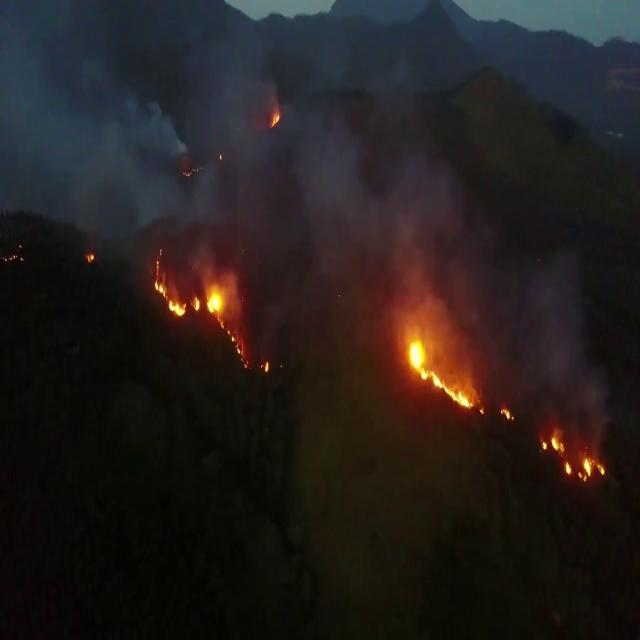Fire: (152, 246, 250, 372), (408, 338, 486, 421), (539, 432, 606, 484), (498, 404, 516, 424), (272, 114, 280, 128)
Smoke: (1, 1, 616, 465)
